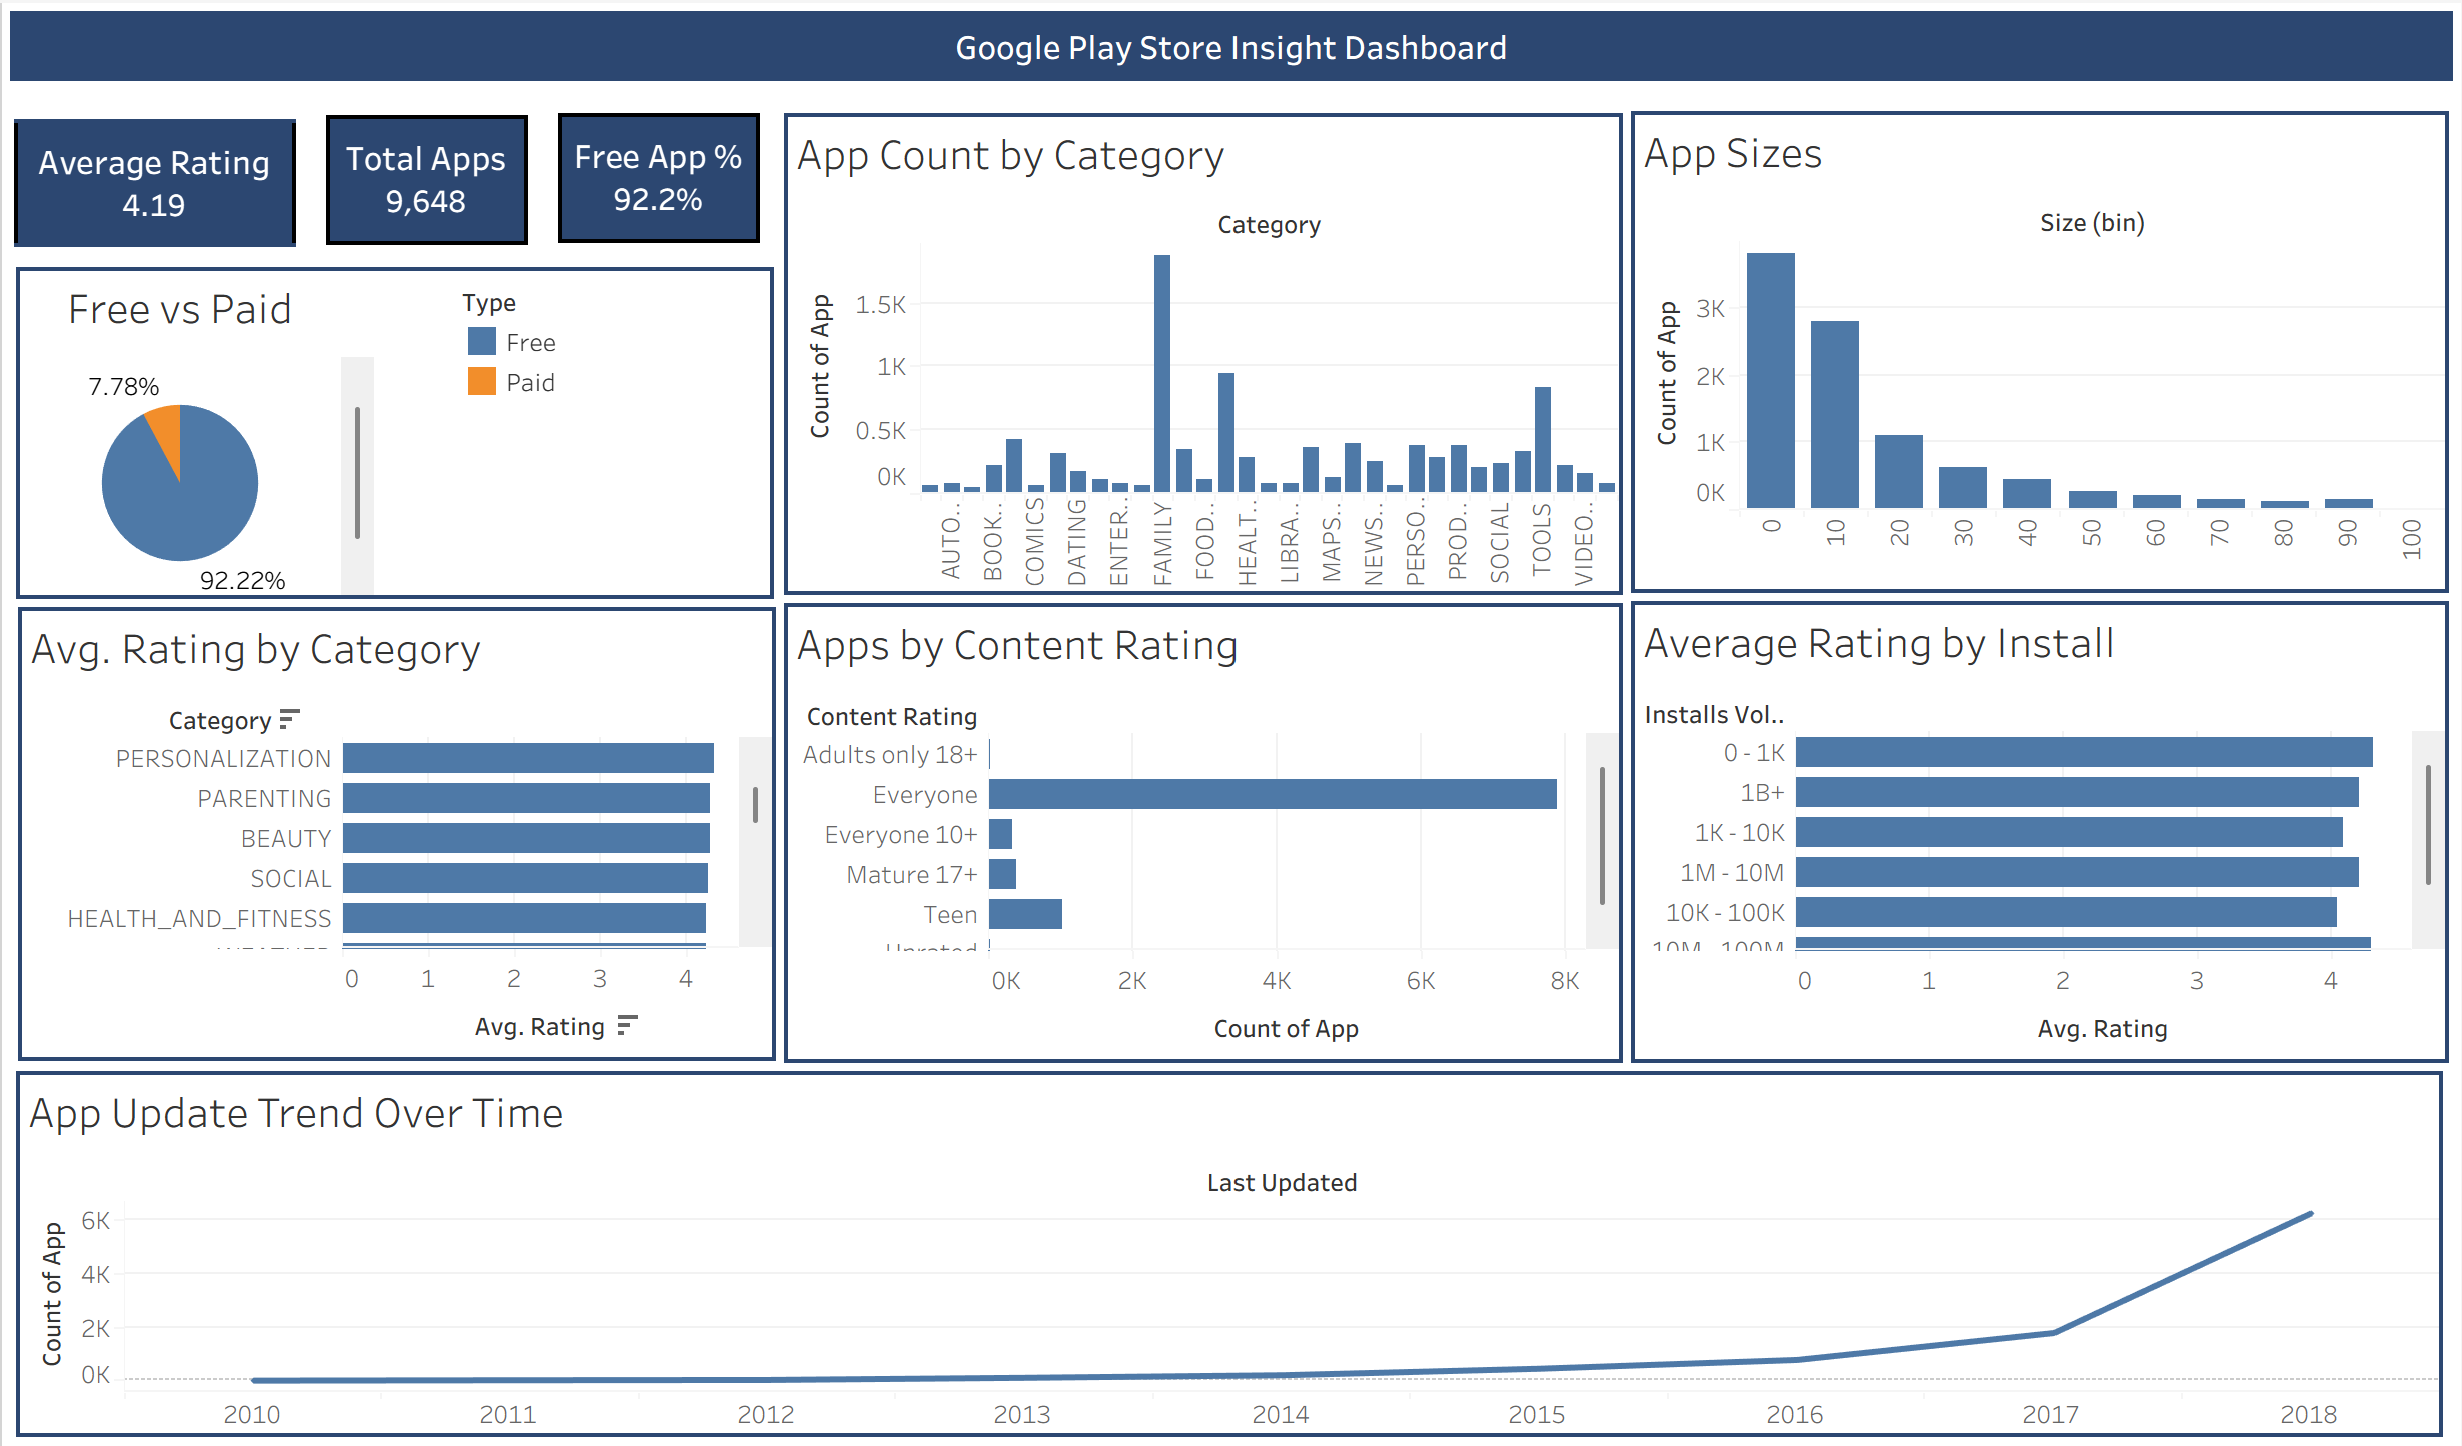

This screenshot's page, from the dashboard's own definition file:
{"tool":"tableau","page":{"name":"Google Play Store Insights","canvas":[1000,1000],"units":"permille","ordinal":0},"visuals":[{"type":"text","box":[3.2,5.5,993.5,48.3]},{"type":"worksheet","title":"Free Apps","mark":"Text","box":[225.4,53.9,91.1,136.7]},{"type":"worksheet","title":"Total Apps KPI","mark":"Text","box":[131,55.2,95.2,140.9]},{"type":"worksheet","title":"Avg Rating KPI","mark":"Text","box":[4.1,58,117.2,113.3]},{"type":"worksheet","title":"App Sizes","mark":"Automatic","rows":["App"],"cols":["Size (bin)"],"box":[662.3,74.6,332.8,332.9]},{"type":"worksheet","title":"App Count by Category","mark":"Automatic","rows":["App"],"cols":["Category"],"box":[318.1,76,340.9,332.9]},{"type":"worksheet","title":"Free vs Paid","mark":"Pie","box":[5.7,182.3,308.4,229.3]},{"type":"legend","title":"Free vs Paid","param":"[federated.0rejtzh05z73c316b5ai218uopxx].[none:Type:nk]","box":[187.1,194.8,113.9,80.1]},{"type":"worksheet","title":"Average Rating by Install","mark":"Automatic","rows":["Calculation_1136595958208012291"],"cols":["Rating"],"box":[662.3,413,332.8,319.1]},{"type":"worksheet","title":"Apps by Content Rating","mark":"Automatic","rows":["Content Rating"],"cols":["App"],"box":[318.1,414.4,340.9,317.7]},{"type":"worksheet","title":"Avg. Rating by Category","mark":"Automatic","rows":["Category"],"cols":["Rating"],"box":[6.5,417.1,308.4,313.5]},{"type":"worksheet","title":"App Update Trend Over Time","mark":"Automatic","rows":["App"],"cols":["Last Updated"],"box":[5.7,737.6,987,252.8]}]}

Visuals, with their boxes on the dashboard's canvas, which has no fixed pixel size, in thousandths of its width and height (x1, y1, x2, y2). These are canvas units, not pixel positions in the 2462x1446 screenshot, which may show the page scaled, cropped or inside an application window:
text: 3/6/997/54
"Free Apps" worksheet (Text marks): 225/54/316/191
"Total Apps KPI" worksheet (Text marks): 131/55/226/196
"Avg Rating KPI" worksheet (Text marks): 4/58/121/171
"App Sizes" worksheet: 662/75/995/408
"App Count by Category" worksheet: 318/76/659/409
"Free vs Paid" worksheet (Pie marks): 6/182/314/412
"Free vs Paid" legend: 187/195/301/275
"Average Rating by Install" worksheet: 662/413/995/732
"Apps by Content Rating" worksheet: 318/414/659/732
"Avg. Rating by Category" worksheet: 6/417/315/731
"App Update Trend Over Time" worksheet: 6/738/993/990
